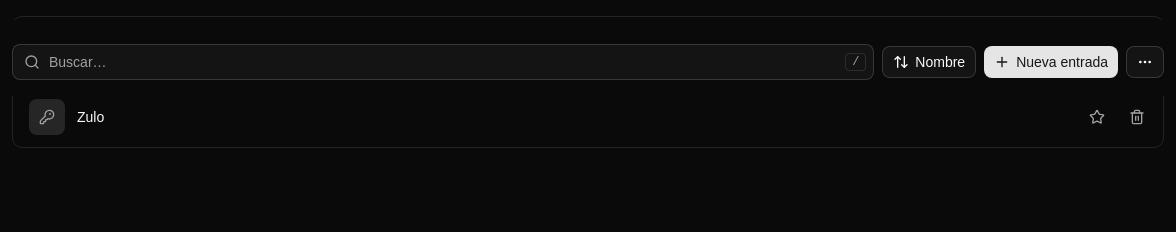
Test: ItemList › changes the order when another one is chosen, and says which one is on
Expected: the text "Ana" is shown, [77,37,102,57]
Click the button "Nombre" at (929, 62), box [882,46,976,78]
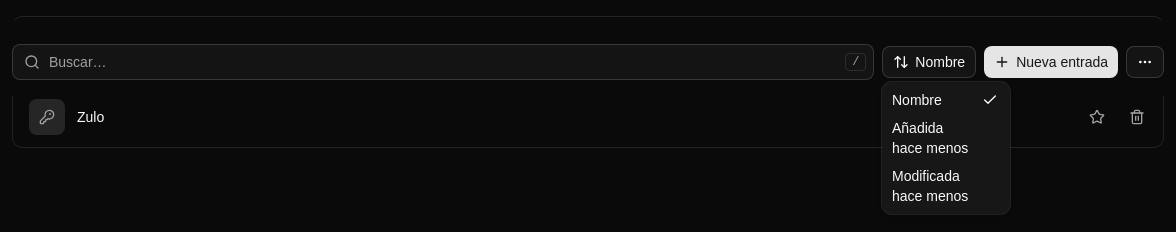
Click the menu item "Añadida hace menos" at (930, 138), box [892,120,968,156]
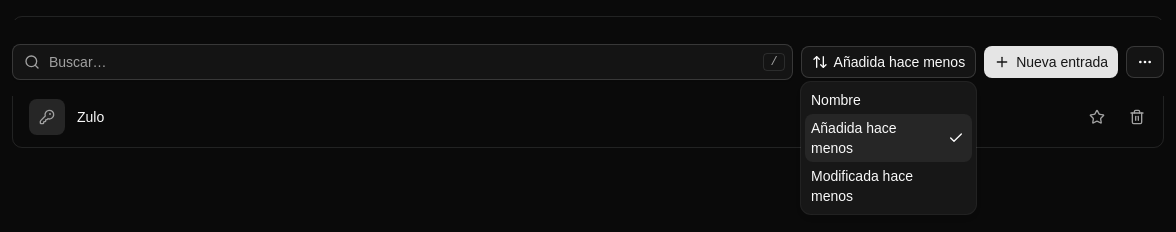
Expected: the button "Añadida hace menos" is shown, [801,46,976,78]
